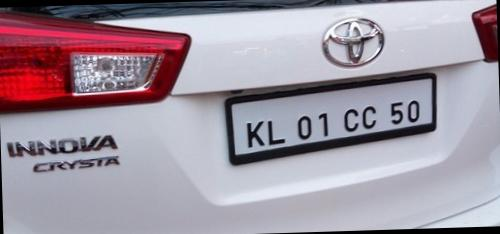plate: (207, 76, 449, 161)
